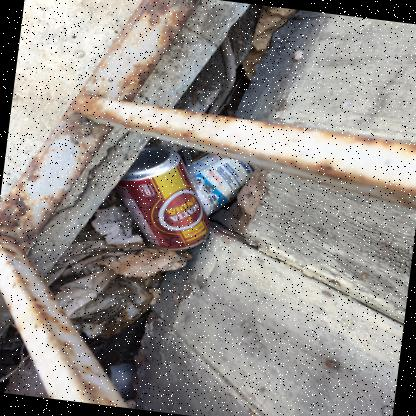Drink can: (115, 146, 209, 250)
Other plastic container: (193, 153, 257, 215)
Paper bag: (43, 205, 192, 291), (54, 267, 153, 338), (241, 6, 296, 79)
Plastic straw: (181, 145, 199, 190)
